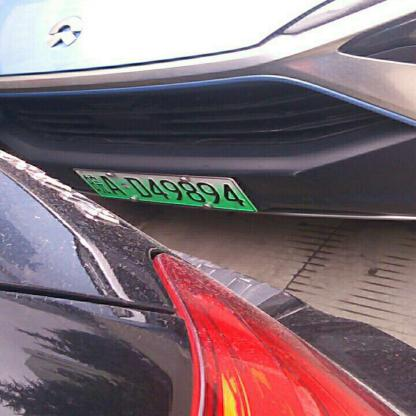lp: (73, 168, 256, 210)
